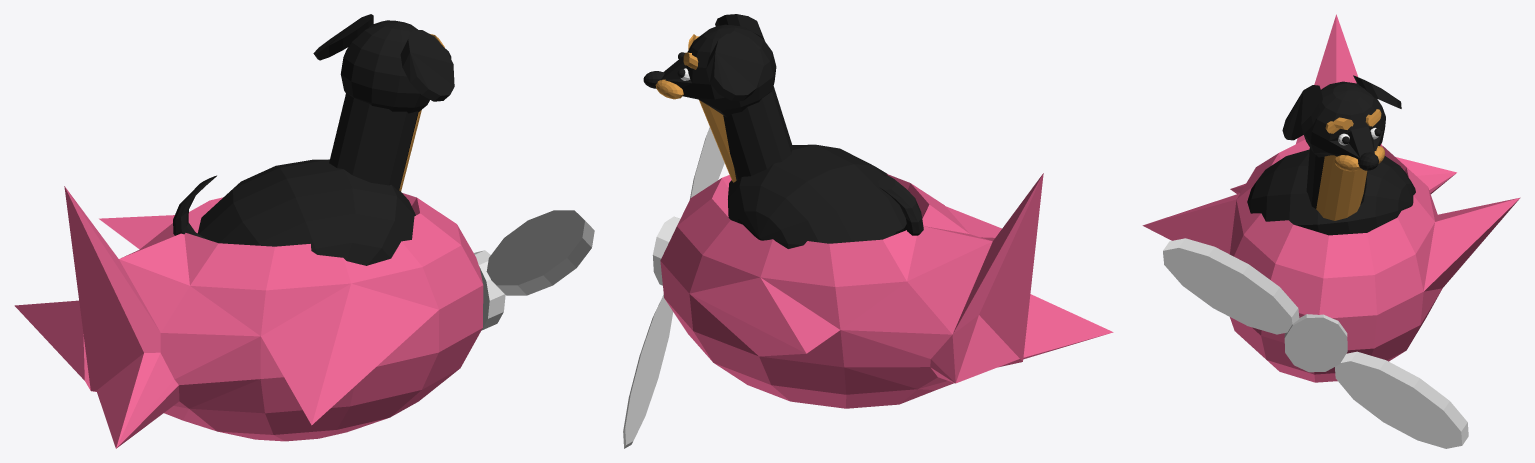
File: PlaneDog.glb
3 renders of one model, left to right at view 1: azimuth 30°, elevation 25°; view 2: azimuth 150°, elevation 25°; view 3: azimuth 270°, elevation 25°, orthographic. The views are drawn at different scales.
Visible parts, largest first — view 1: Colors, helice; view 2: Colors, helice; view 3: Colors, helice.
Part boxes in pixels (left/top/right/bottom): Colors: left=14, top=14, right=483, bottom=448; helice: left=474, top=210, right=594, bottom=330; Colors: left=643, top=14, right=1113, bottom=408; helice: left=623, top=127, right=724, bottom=448; Colors: left=1142, top=14, right=1520, bottom=382; helice: left=1163, top=238, right=1468, bottom=448.
Size of the model in its own units: 1.05 by 0.9497 by 0.9341.
